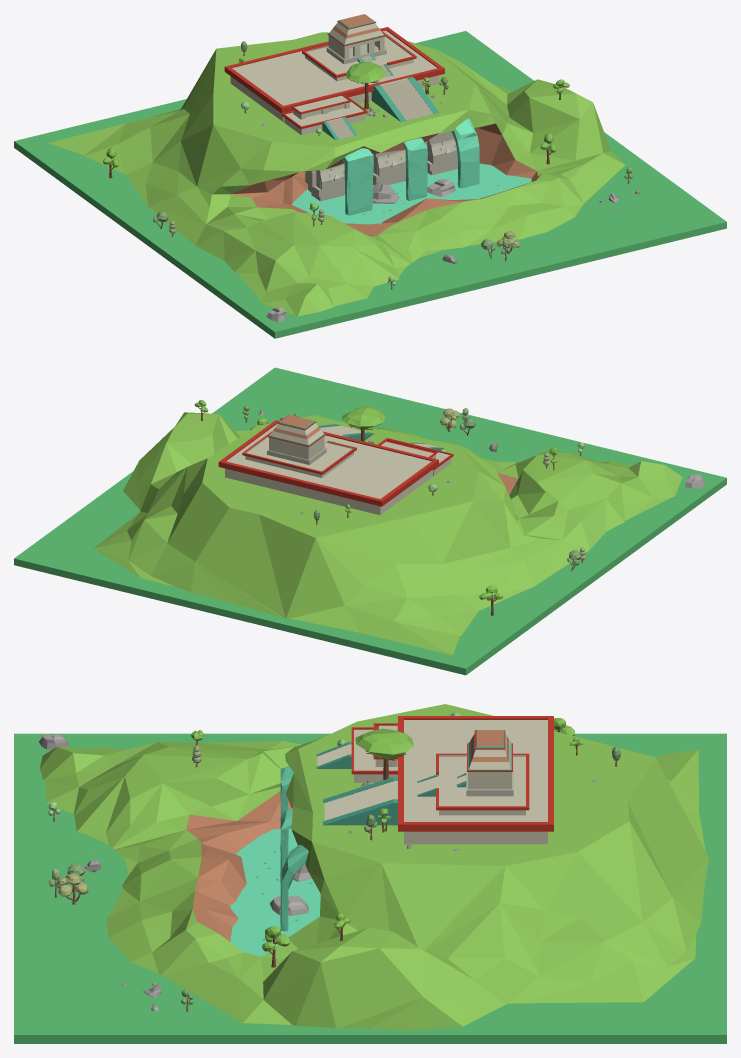
Rendered from Park_2.1_D6.fbx.
3 views of the same model, one above another, from view 1: azimuth 30°, elevation 25°; view 2: azimuth 150°, elevation 25°; view 3: azimuth 270°, elevation 25° (orthographic). The views are drawn at different scales.
Parts seen in each view (by area): view 1: Plane.1308, Plane.1307, Plane.1309, Plane.1317, Plane.1316, Plane.1319, Mball.003, Plane.1312, Mball.002, Mball.001, Plane.1310, Plane.1315 (+5 smaller); view 2: Plane.1308, Plane.1307, Plane.1309, Plane.1316, Plane.1312, Tree_Tropic_006.015; view 3: Plane.1308, Plane.1307, Plane.1309, Plane.1317, Plane.1312, Plane.1316, Plane.1319, Tree_Tropic_006.015, Plane.1310, Mball.002, Plane.1318, Leaves_05.002 (+1 smaller).
Boxes of the visible parts, left/top/right/bottom form: Plane.1308: left=48, top=32, right=625, bottom=316; Plane.1307: left=14, top=31, right=726, bottom=338; Plane.1309: left=224, top=27, right=444, bottom=121; Plane.1317: left=292, top=163, right=531, bottom=224; Plane.1316: left=326, top=14, right=386, bottom=64; Plane.1319: left=371, top=76, right=439, bottom=122; Mball.003: left=343, top=148, right=373, bottom=215; Plane.1312: left=302, top=31, right=416, bottom=81; Mball.002: left=451, top=118, right=479, bottom=188; Mball.001: left=403, top=138, right=427, bottom=200; Plane.1310: left=282, top=97, right=367, bottom=135; Plane.1315: left=424, top=131, right=457, bottom=175; Plane.1308: left=94, top=412, right=682, bottom=655; Plane.1307: left=14, top=367, right=726, bottom=675; Plane.1309: left=218, top=420, right=438, bottom=515; Plane.1316: left=267, top=415, right=326, bottom=464; Plane.1312: left=242, top=431, right=356, bottom=477; Tree_Tropic_006.015: left=341, top=406, right=385, bottom=441; Plane.1308: left=39, top=704, right=708, bottom=1030; Plane.1307: left=14, top=733, right=726, bottom=1043; Plane.1309: left=398, top=716, right=553, bottom=844; Plane.1317: left=230, top=828, right=320, bottom=956; Plane.1312: left=436, top=753, right=529, bottom=815; Plane.1316: left=456, top=730, right=513, bottom=796; Plane.1319: left=323, top=777, right=397, bottom=825; Tree_Tropic_006.015: left=355, top=728, right=413, bottom=779; Plane.1310: left=351, top=727, right=397, bottom=782; Mball.002: left=280, top=844, right=308, bottom=931; Plane.1318: left=316, top=742, right=351, bottom=768; Leaves_05.002: left=57, top=873, right=88, bottom=904.
Bounding box in the file's own units: 21411 × 5800 × 21411.
27 materials, 4 textured.
